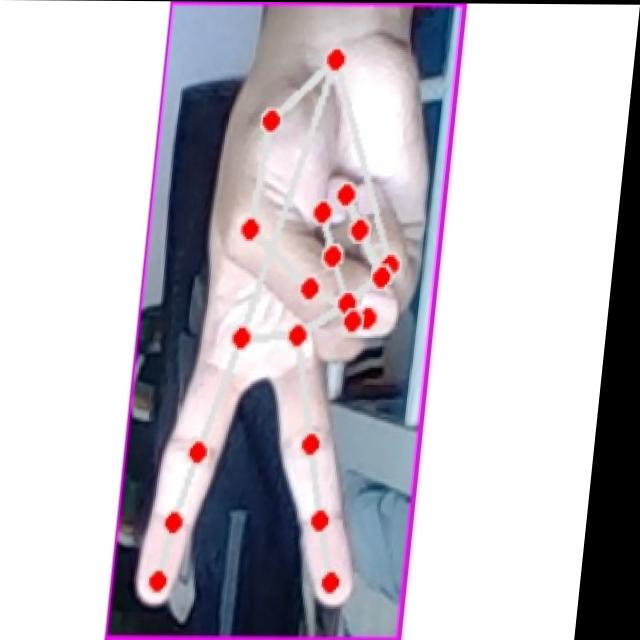V: (135, 48, 450, 621)
